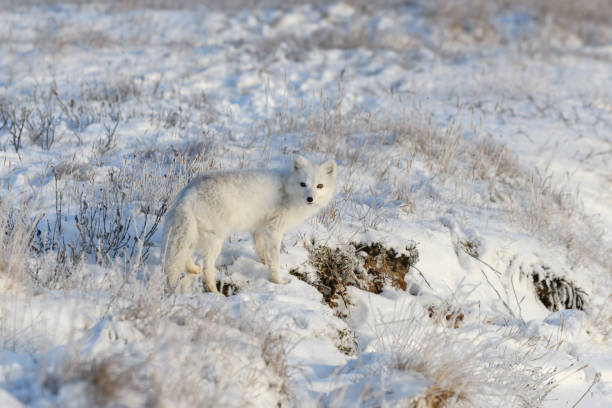arcticfox: (287, 169, 337, 214)
